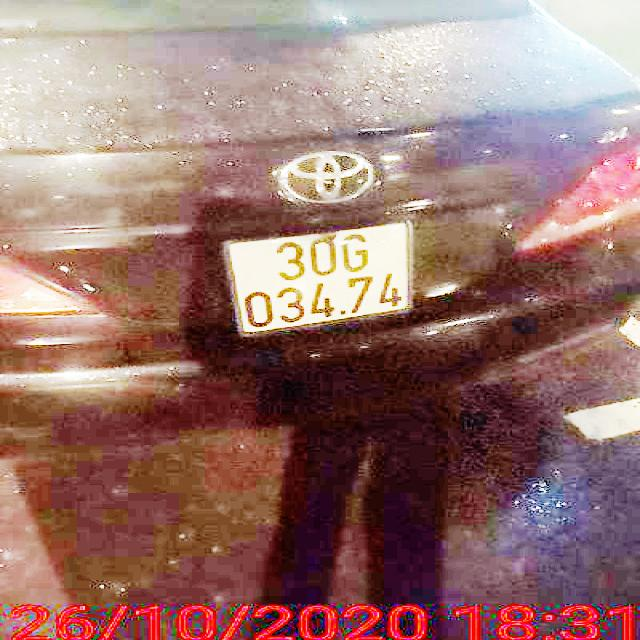license_plate: (225, 221, 419, 333)
